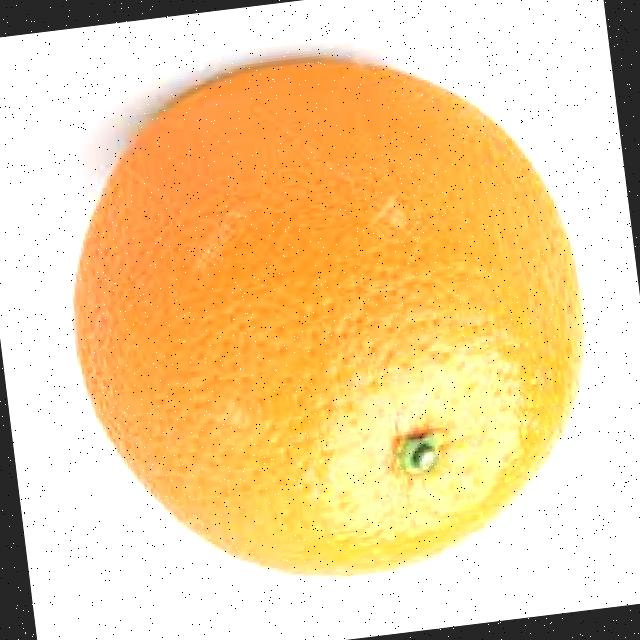orange: (41, 26, 619, 612)
